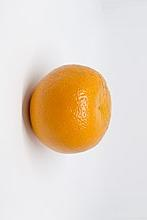orange: (0, 0, 147, 220)
